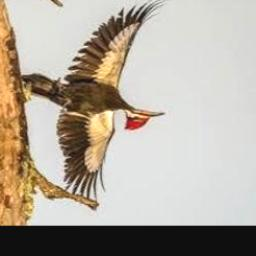Woodpecker: (19, 0, 169, 202)
